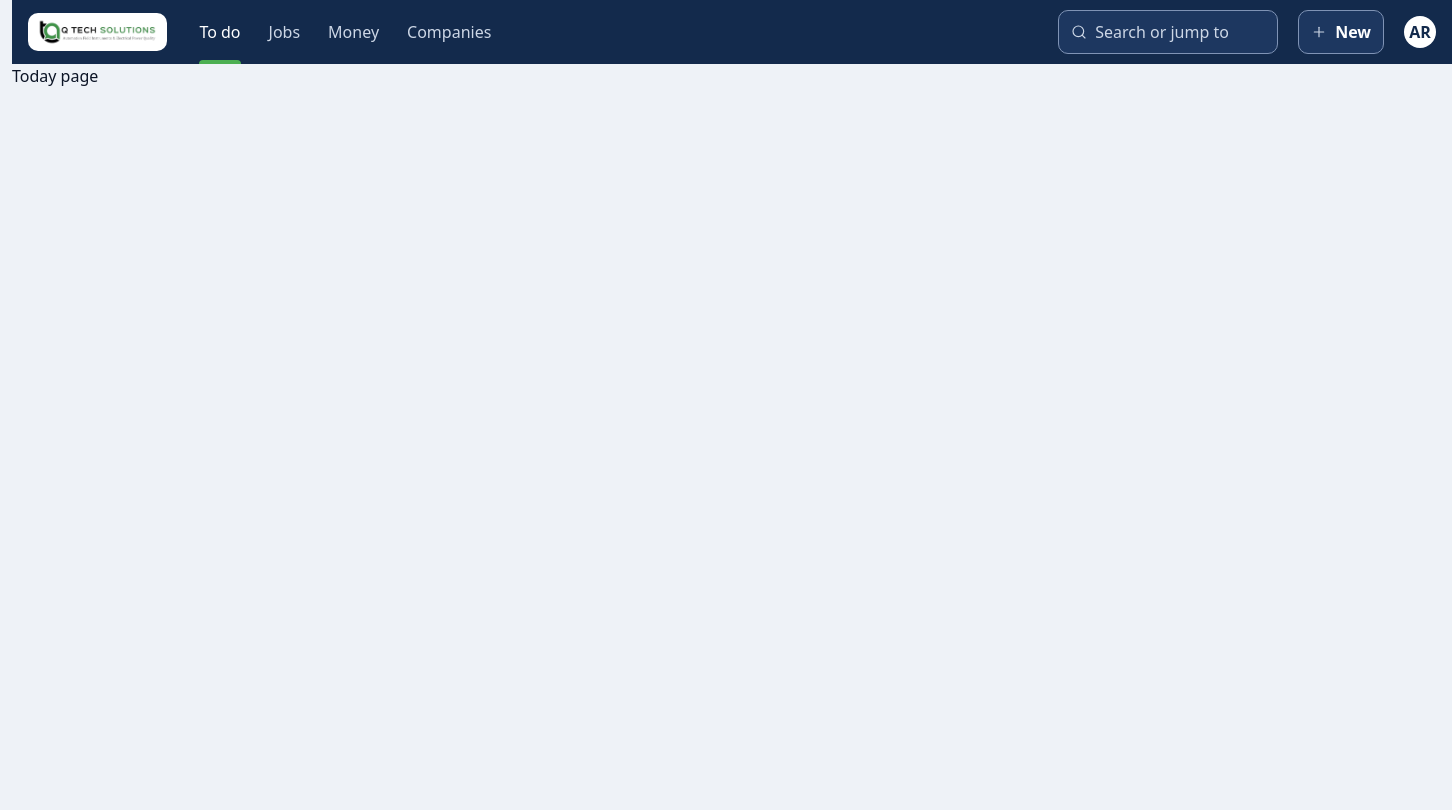
account menu: Settings and Team (A04) › an admin sees Settings and Team, and Team goes to the Team screen
The width and height of the screenshot is (1452, 810).
Click the button named "Account menu, Ayesha Rana": (1420, 32) x1=1404 y1=16 x2=1436 y2=48
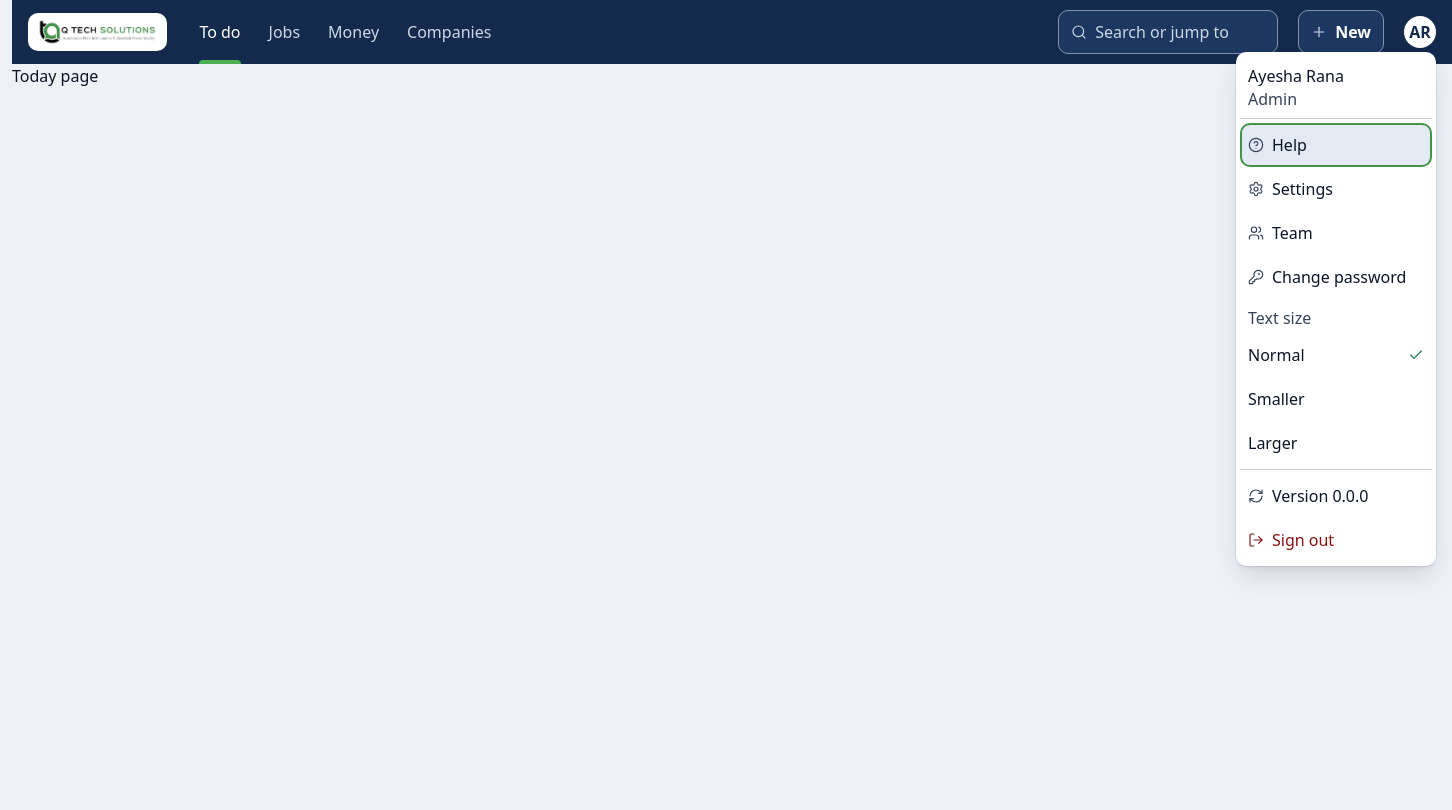
Check: the menu item "Settings" is shown, box x1=1240 y1=167 x2=1432 y2=211
Click the menu item "Team": (1336, 233) x1=1240 y1=211 x2=1432 y2=255
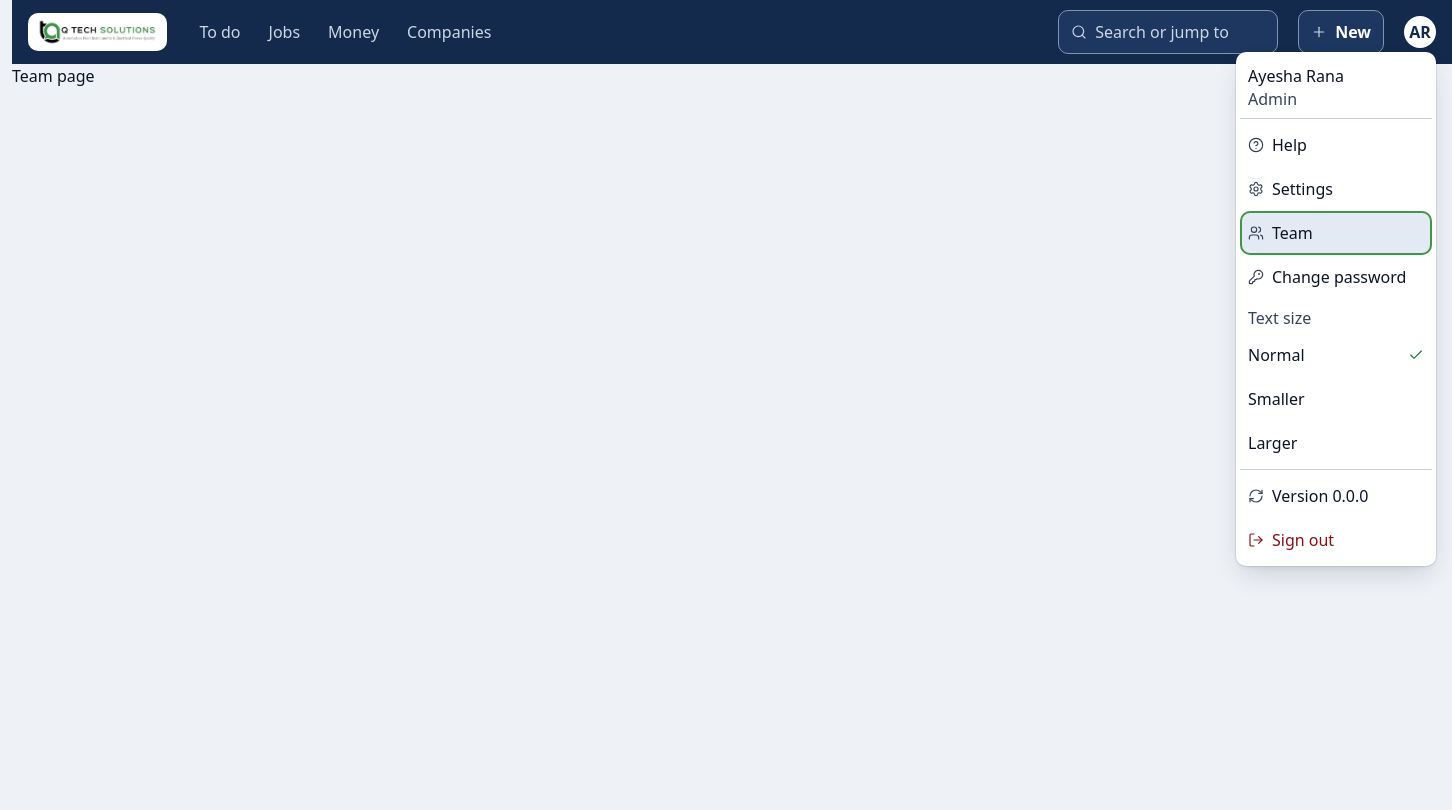
Check: the text "Team page" is shown, box x1=12 y1=65 x2=95 y2=87
